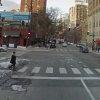Crosswalk: (26, 56, 95, 92)
